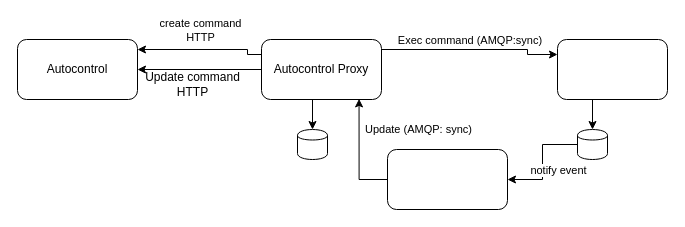
Some shapes in this 685 by 227 pixel diagram are drawn without their labels. Each missing label, with the centre of its shape:
"Plato BackOffice" goes at point 612,69.
"Plato outbox" goes at point 447,179.
